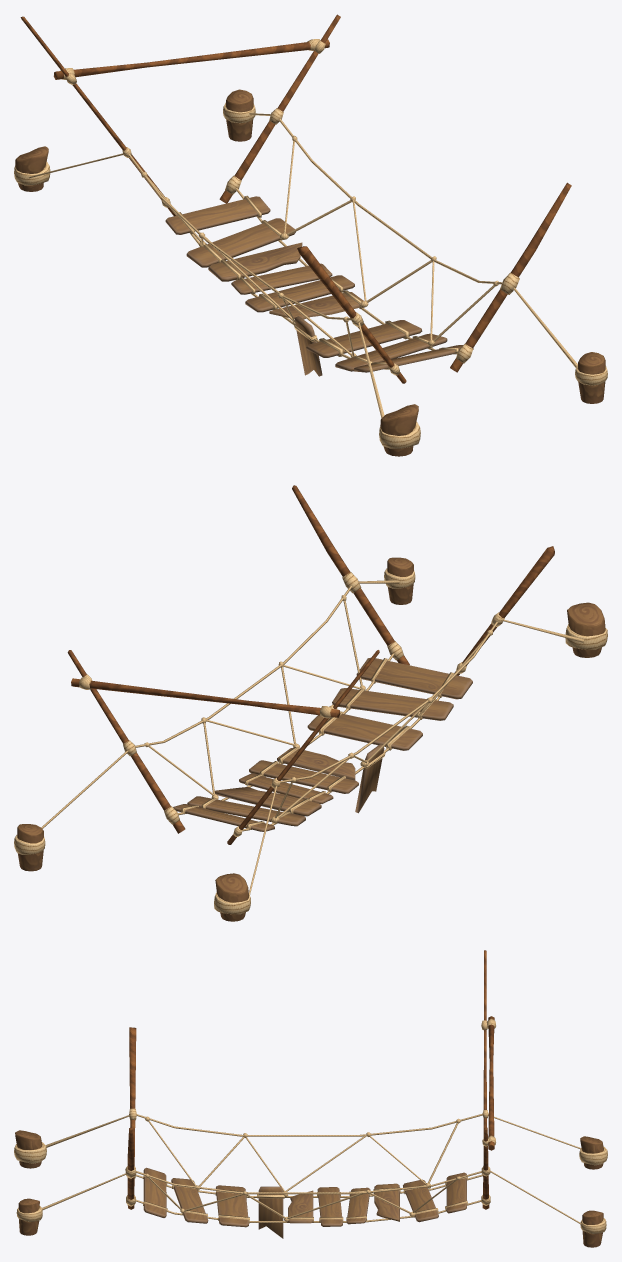
The model's file is Bridge4.fbx.
The picture shows the model from 3 angles, top to bottom: view 1: azimuth 30°, elevation 25°; view 2: azimuth 150°, elevation 25°; view 3: azimuth 270°, elevation 25°; orthographic projection. The views are drawn at different scales.
Visible parts, largest first — view 1: polySurface1149; view 2: polySurface1149; view 3: polySurface1149.
Part boxes in pixels (x1,y1,x2,y2): polySurface1149: [14, 14, 607, 456]; polySurface1149: [14, 485, 607, 921]; polySurface1149: [14, 950, 607, 1247].
Bounding box in the file's own units: 57.82 × 51.87 × 121.
